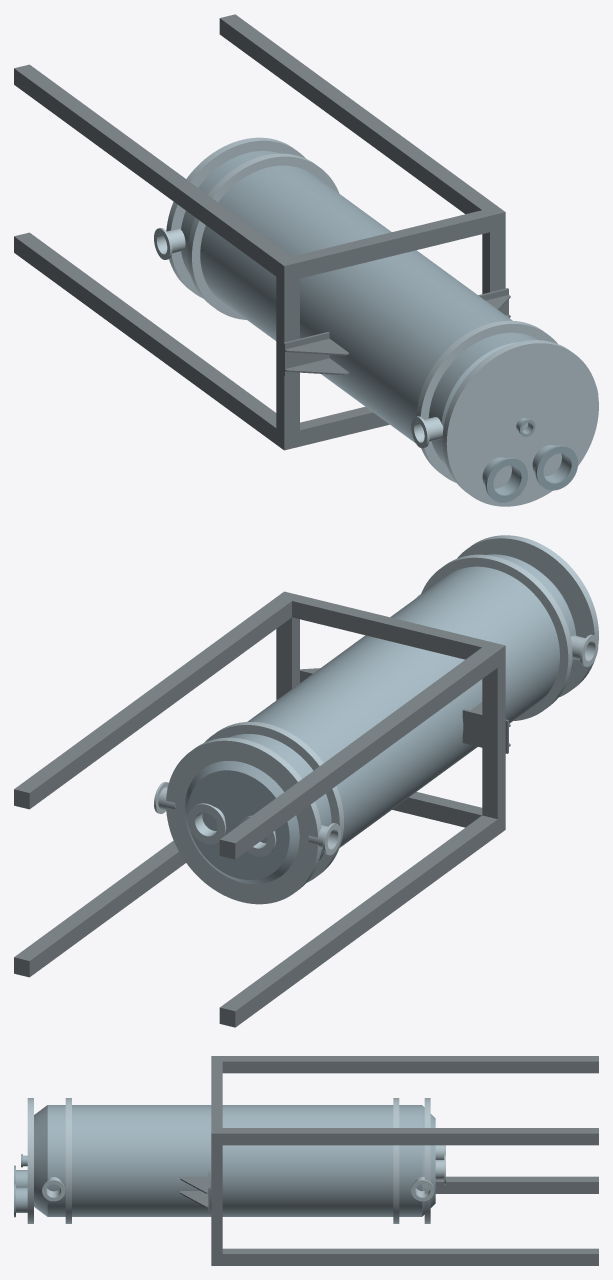
3 views of the same model, one above another, from view 1: azimuth 30°, elevation 25°; view 2: azimuth 150°, elevation 25°; view 3: azimuth 270°, elevation 25° (orthographic). The views are drawn at different scales.
Parts seen in each view (by area): view 1: 本体_石墨换热器筒, 本体_连接环, 支撑_立柱, 支撑_顶部横梁, 托耳_换热器2底板, 接口_顶盖法兰02, 接口_顶盖法兰01, 接口_侧面接管, 接口_侧面法兰, 托耳_换热器2筋板-1, 托耳_换热器2筋板+1; view 2: 本体_石墨换热器筒, 支撑_立柱, 本体_连接环, 支撑_顶部横梁, 本体_下封头, 接口_底部法兰, 接口_侧面法兰, 接口_侧面接管, 托耳_换热器2底板; view 3: 本体_石墨换热器筒, 支撑_立柱, 本体_连接环, 支撑_顶部横梁, 本体_上封头, 本体_下封头, 接口_侧面法兰, 接口_底部接管, 接口_顶盖接管02, 托耳_换热器1筋板+1, 托耳_换热器1筋板-1.
Boxes of the visible parts, <box> form: 本体_石墨换热器筒: <box>181,151,538,465</box>; 本体_连接环: <box>166,137,598,506</box>; 支撑_立柱: <box>14,14,497,444</box>; 支撑_顶部横梁: <box>276,206,505,450</box>; 托耳_换热器2底板: <box>283,332,329,376</box>; 接口_顶盖法兰02: <box>535,445,577,490</box>; 接口_顶盖法兰01: <box>485,457,527,502</box>; 接口_侧面接管: <box>159,228,443,441</box>; 接口_侧面法兰: <box>154,228,598,448</box>; 托耳_换热器2筋板-1: <box>285,338,349,355</box>; 托耳_换热器2筋板+1: <box>285,358,349,375</box>; 本体_石墨换热器筒: <box>229,554,576,860</box>; 支撑_立柱: <box>14,597,497,1027</box>; 本体_连接环: <box>166,535,598,904</box>; 支撑_顶部横梁: <box>276,591,505,835</box>; 本体_下封头: <box>184,761,299,884</box>; 接口_底部法兰: <box>187,803,276,856</box>; 接口_侧面法兰: <box>154,594,598,855</box>; 接口_侧面接管: <box>158,635,593,848</box>; 托耳_换热器2底板: <box>462,709,508,753</box>; 本体_石墨换热器筒: <box>47,1105,422,1216</box>; 支撑_立柱: <box>222,1056,598,1265</box>; 本体_连接环: <box>27,1098,430,1223</box>; 支撑_顶部横梁: <box>211,1056,222,1265</box>; 本体_上封头: <box>34,1105,47,1216</box>; 本体_下封头: <box>422,1105,435,1216</box>; 接口_侧面法兰: <box>42,1179,434,1201</box>; 接口_底部接管: <box>435,1145,444,1179</box>; 接口_顶盖接管02: <box>16,1187,27,1212</box>; 托耳_换热器1筋板+1: <box>180,1177,208,1193</box>; 托耳_换热器1筋板-1: <box>180,1191,208,1207</box>.
Bounding box in the file's own units: 2.15 × 1.69 × 6.78.
